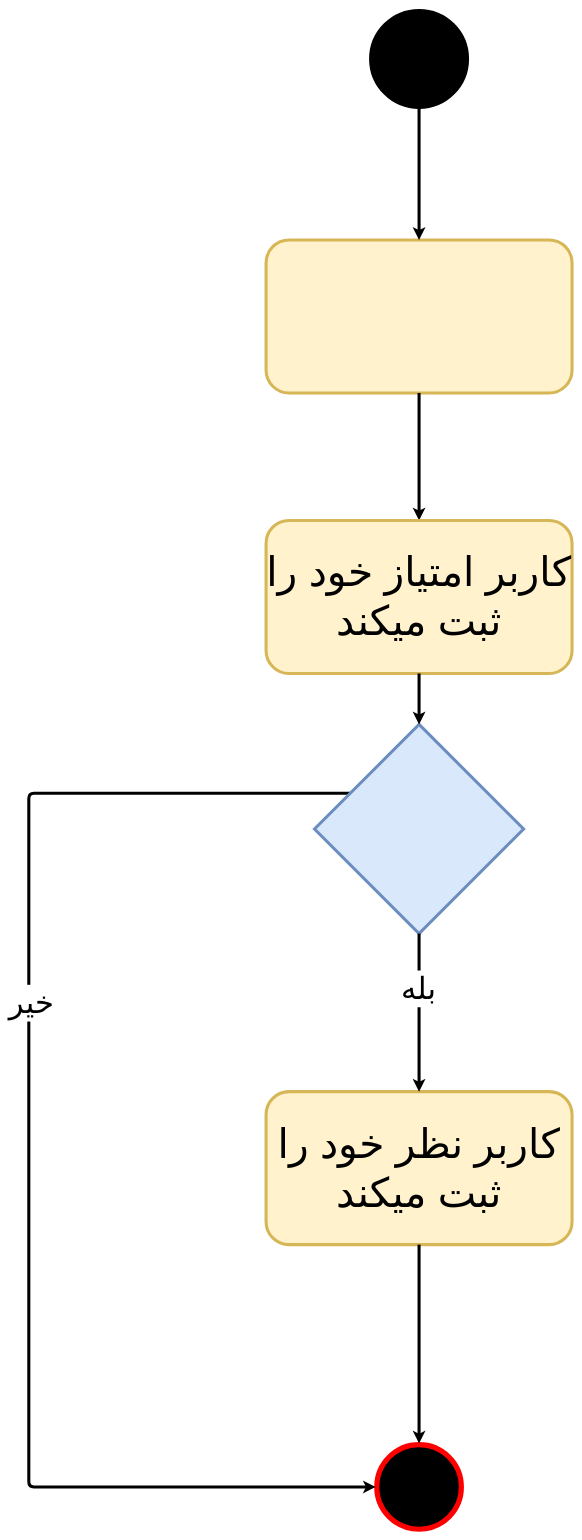
This 582x1540 diagram has some shape labels left out. The shapes that lost their labels are listed below. From the top down, each one's centre as x and y in pixels, then its label:
At (418,316): "گوگل پلی باز میشود".
At (419,829): "آیا کاربر نظری دارد؟".
